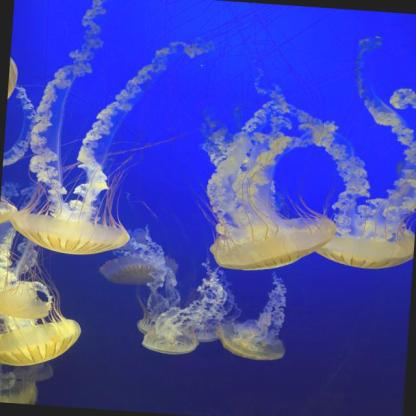jellyfish: (208, 206, 339, 276), (4, 206, 132, 259), (308, 219, 415, 272), (0, 309, 83, 371), (211, 318, 288, 362), (0, 277, 57, 326), (135, 326, 201, 356), (103, 261, 164, 287), (173, 322, 225, 346), (0, 375, 40, 404), (132, 316, 172, 340), (0, 194, 20, 233), (7, 53, 20, 108)
